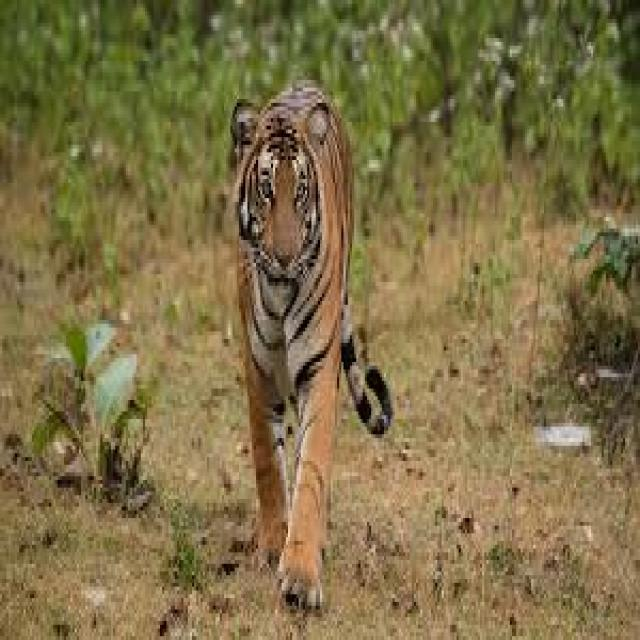TIGER: (173, 60, 401, 632)
